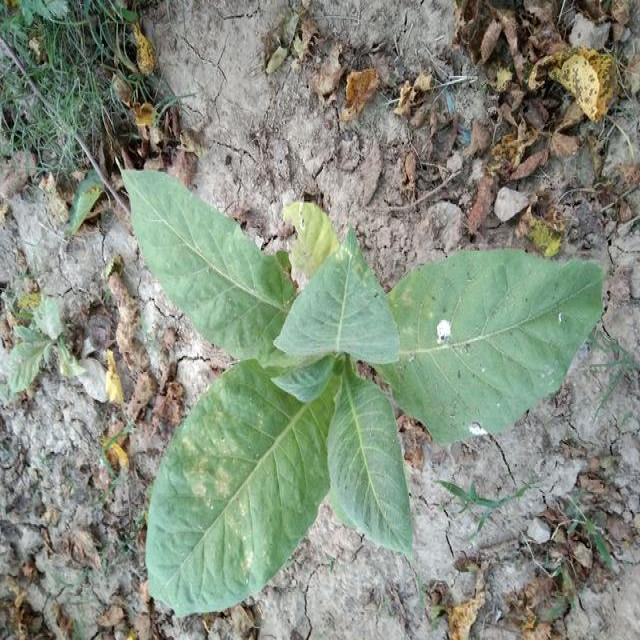crop: (122, 167, 612, 609)
